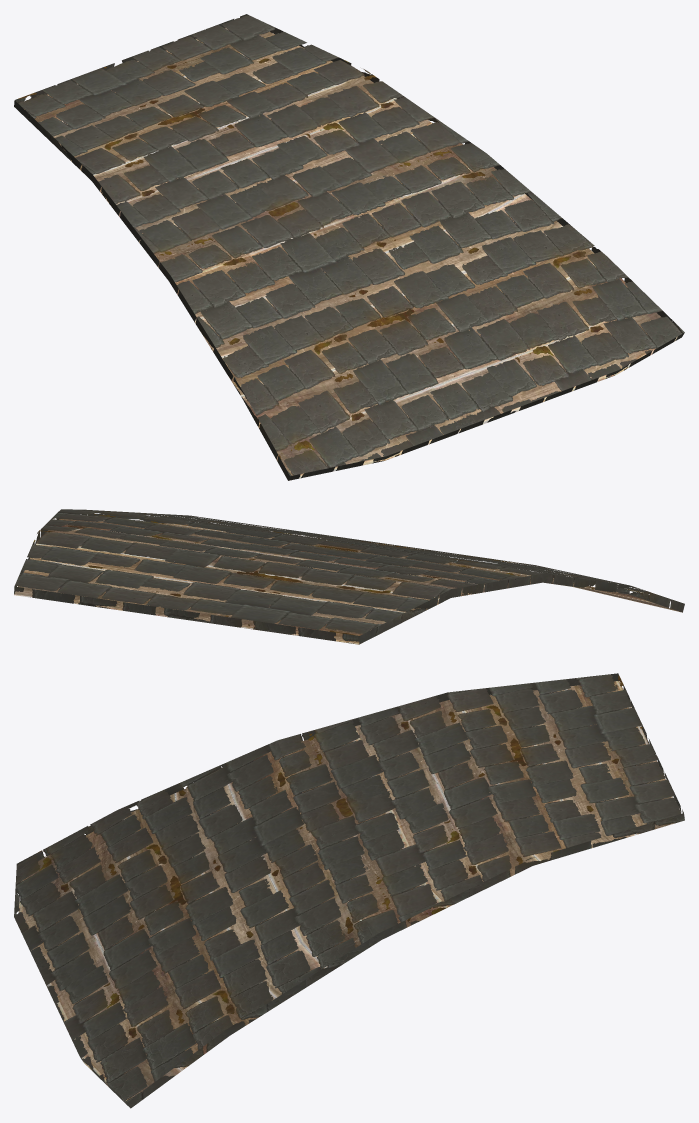
3 views of the same model, one above another, from view 1: azimuth 30°, elevation 25°; view 2: azimuth 150°, elevation 25°; view 3: azimuth 270°, elevation 25° (orthographic). The views are drawn at different scales.
Parts seen in each view (by area): view 1: SM_Library_Roof_01_LOD0; view 2: SM_Library_Roof_01_LOD0; view 3: SM_Library_Roof_01_LOD0.
Boxes of the visible parts, x1,y1,x2,y2 form: SM_Library_Roof_01_LOD0: (14,14,684,480); SM_Library_Roof_01_LOD0: (14,509,684,644); SM_Library_Roof_01_LOD0: (14,673,684,1108).
Bounding box in the file's own units: 13.34 × 5.23 × 15.94.
Materials: 2 (2 with a texture image).
